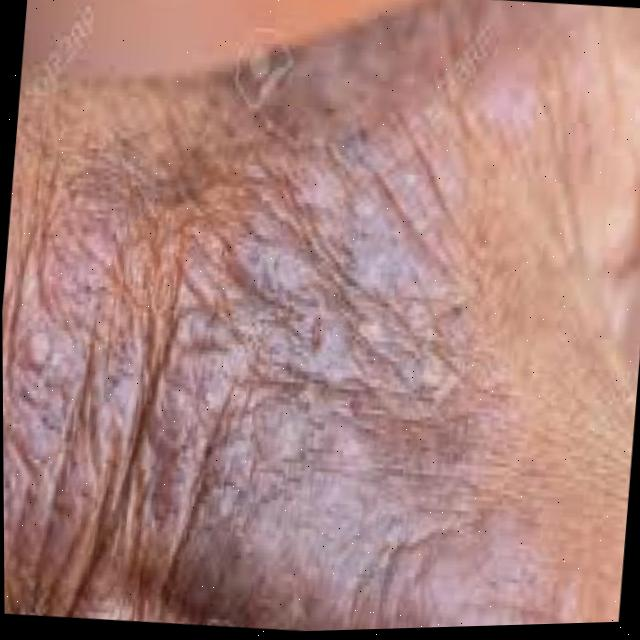Eczema: (95, 83, 481, 637)
